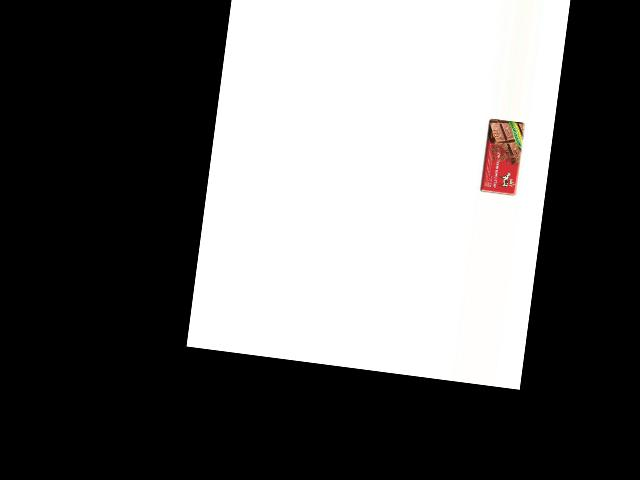chocolate: (478, 117, 526, 197)
